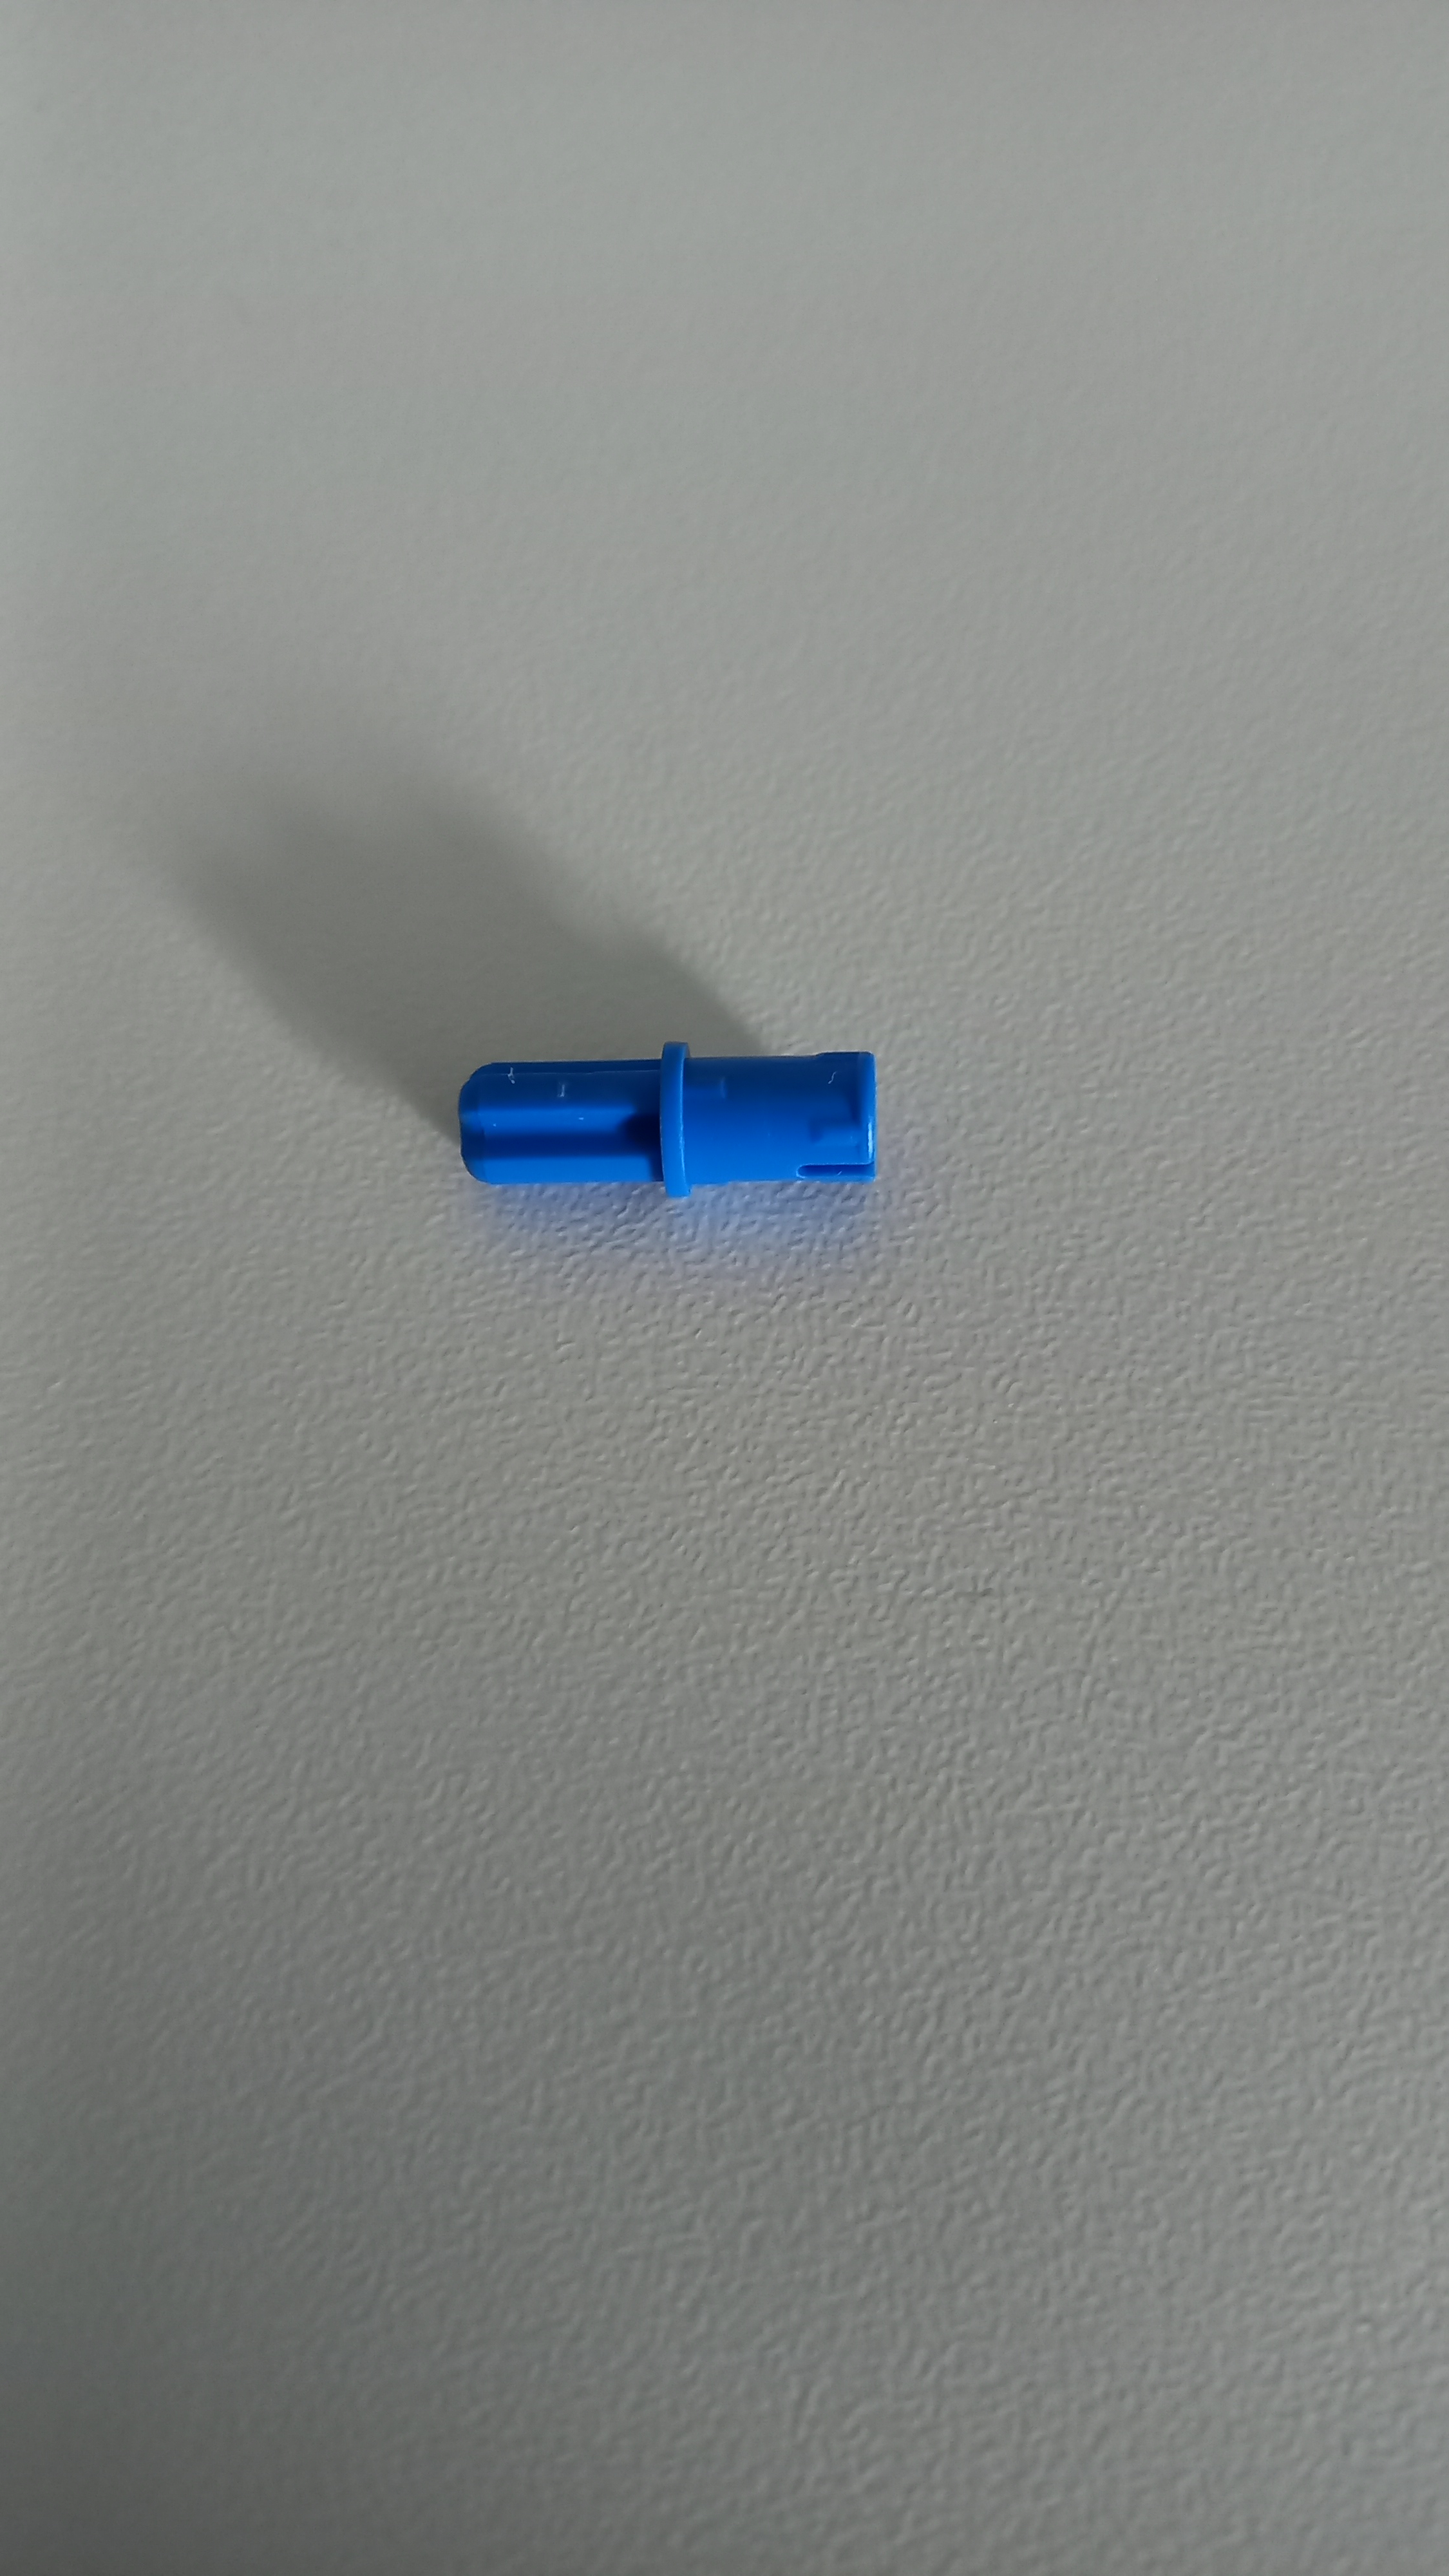Blau: (448, 1016, 906, 1226)
